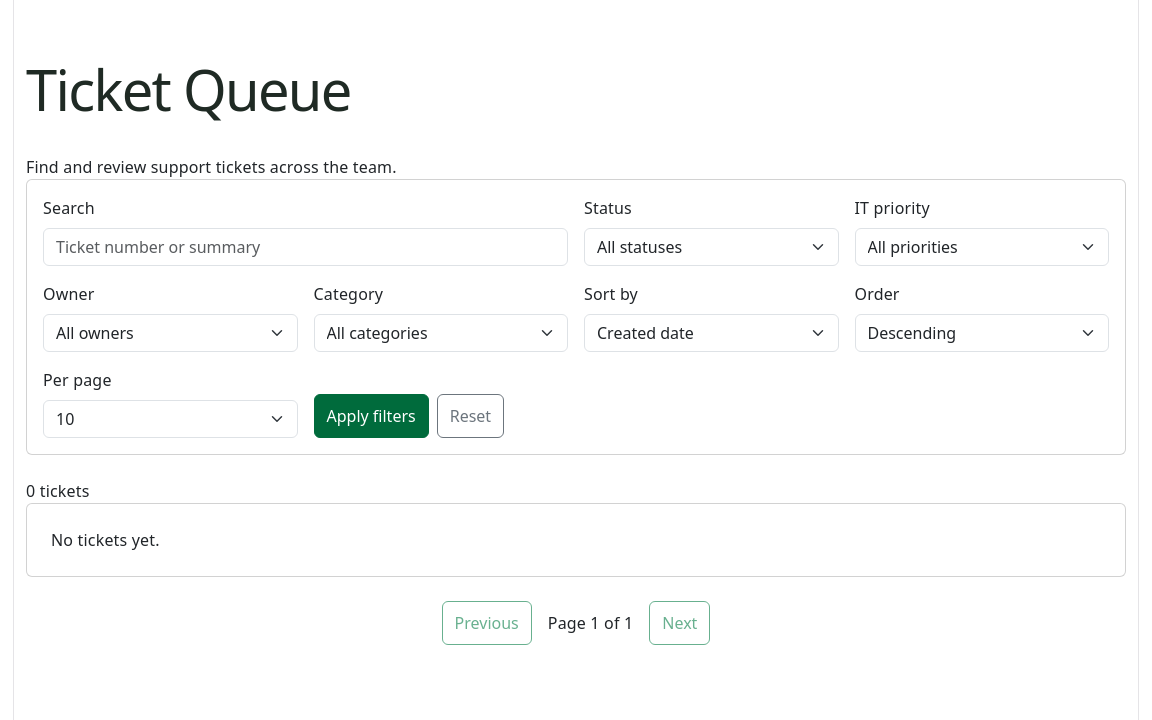
distinguishes empty queue from no matching filters and resets filters
Expected: the text "No tickets yet." is shown, 26,503 -> 1126,577
In the field labelled "Search": (306, 247) 43,228 -> 568,266, type "printer"
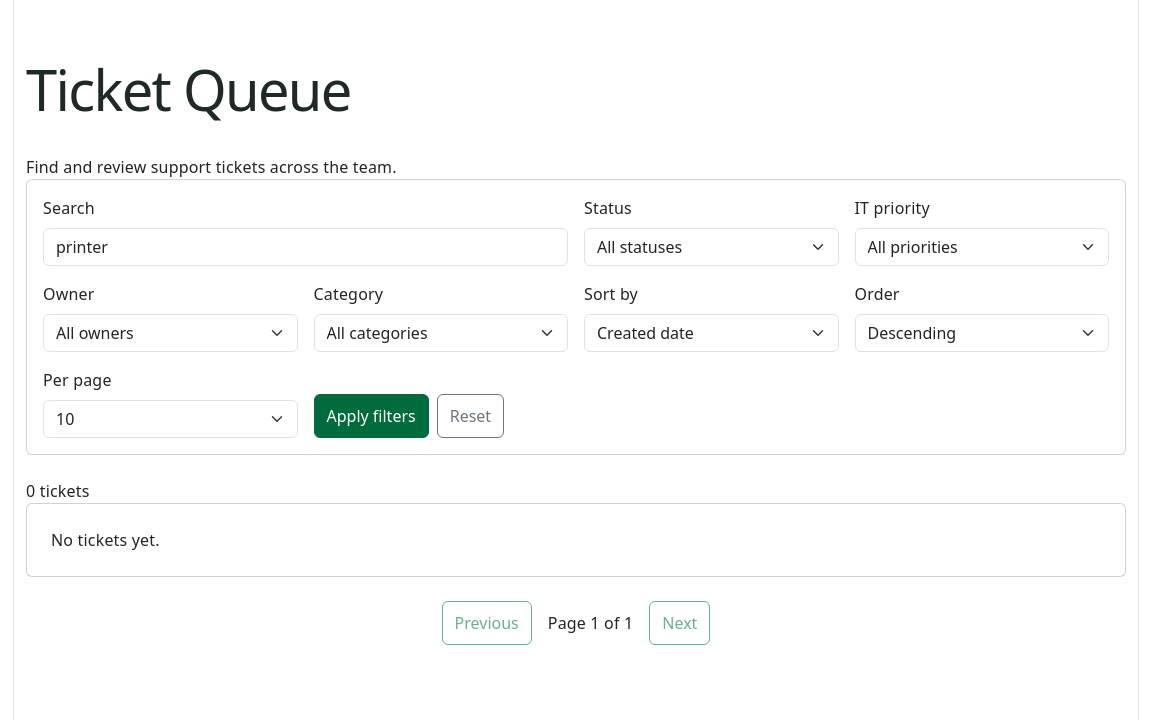
Select "HIGH" in the dropdown labelled "IT priority": (982, 247) 854,228 -> 1109,266
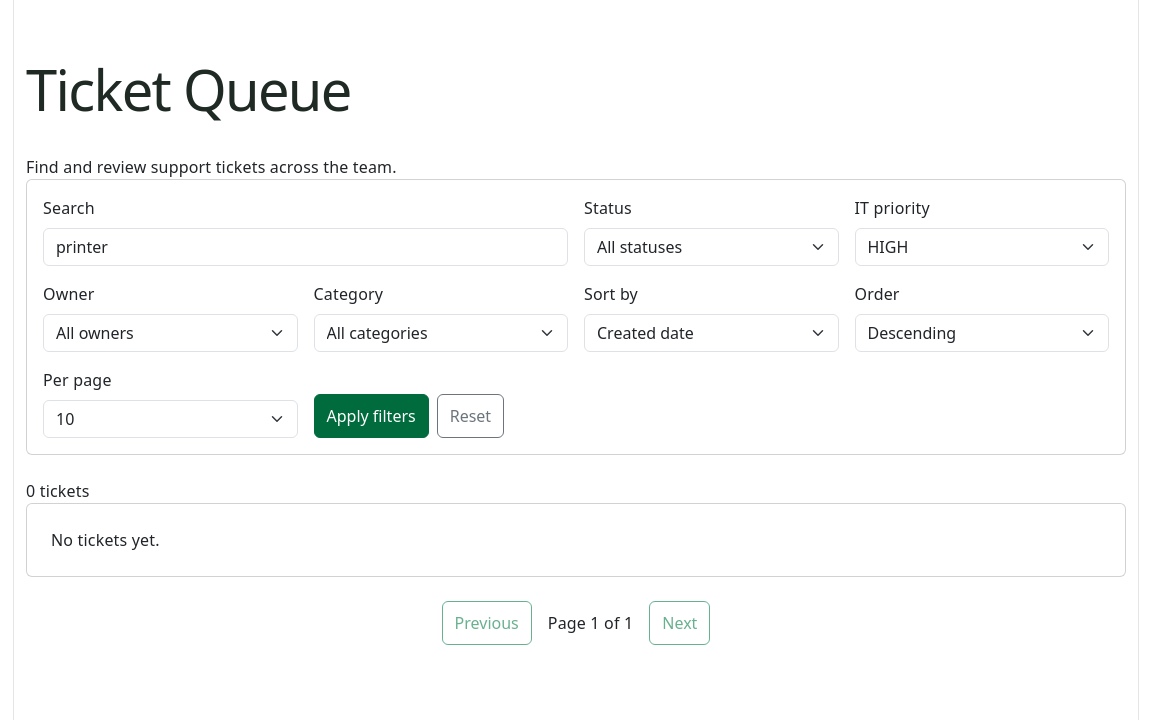
Select "Assigned to me" in the dropdown labelled "Owner": (170, 333) 43,314 -> 298,352
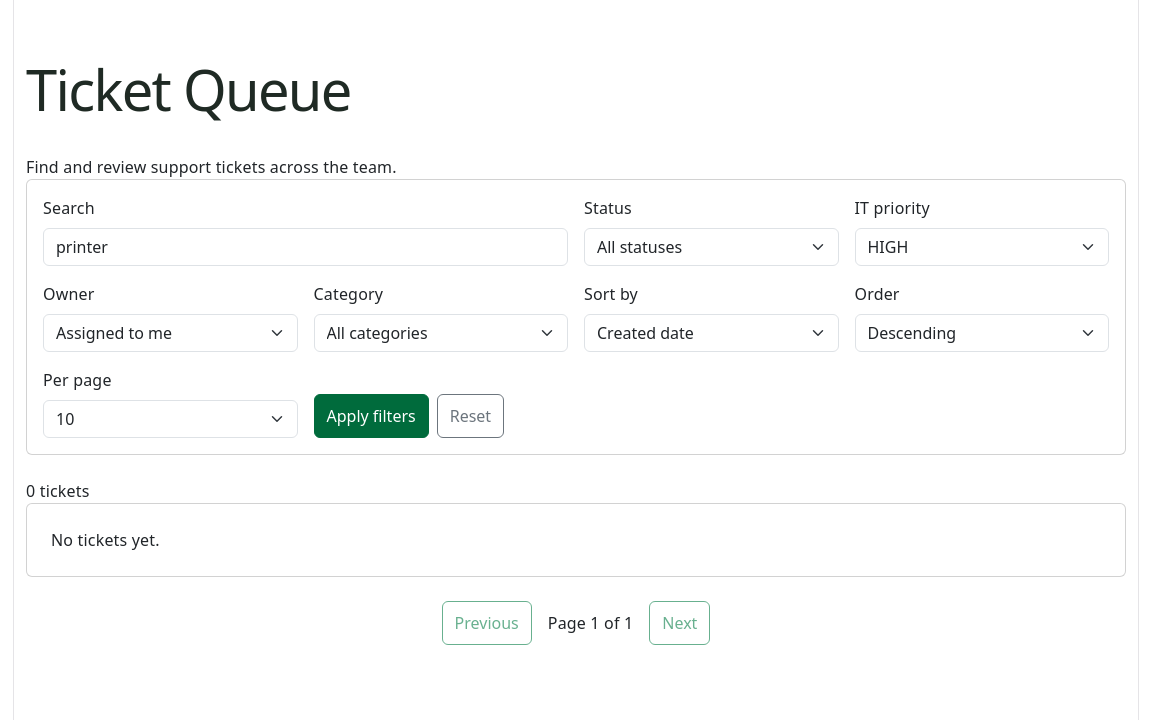
Click the button "Apply filters": click(371, 416) 314,394 -> 429,438
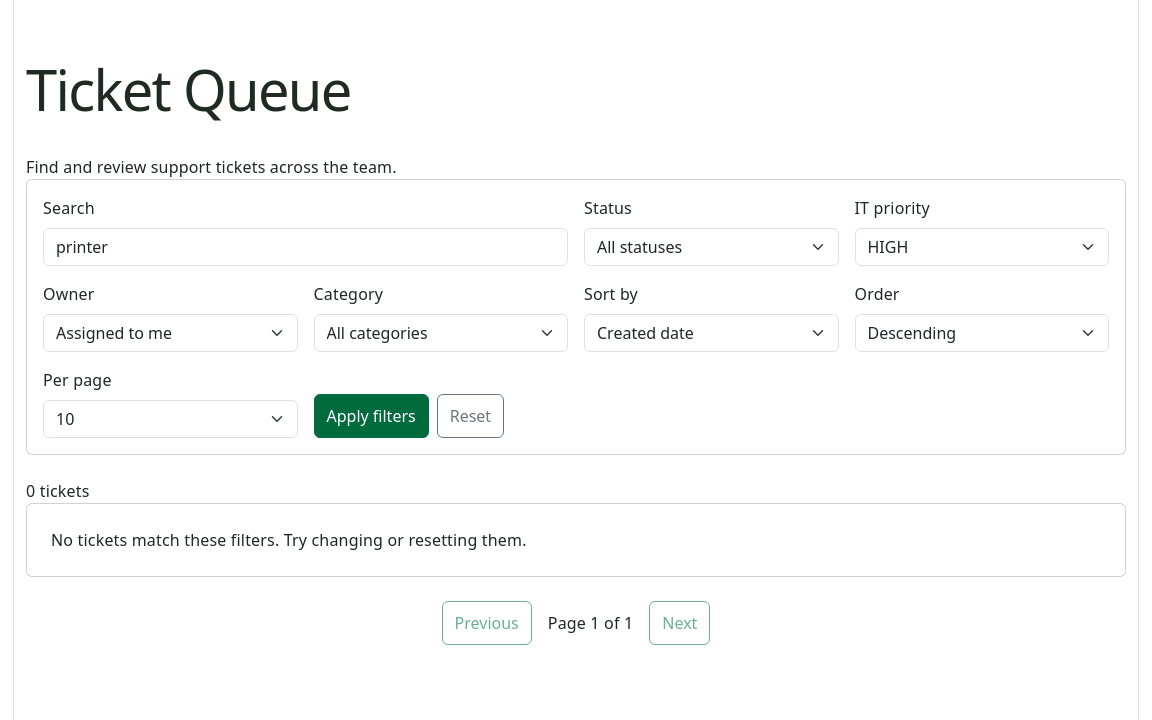
Expected: the text "No tickets match" is shown, 51,529 -> 527,551
Click the button "Reset": click(470, 416) 437,394 -> 504,438
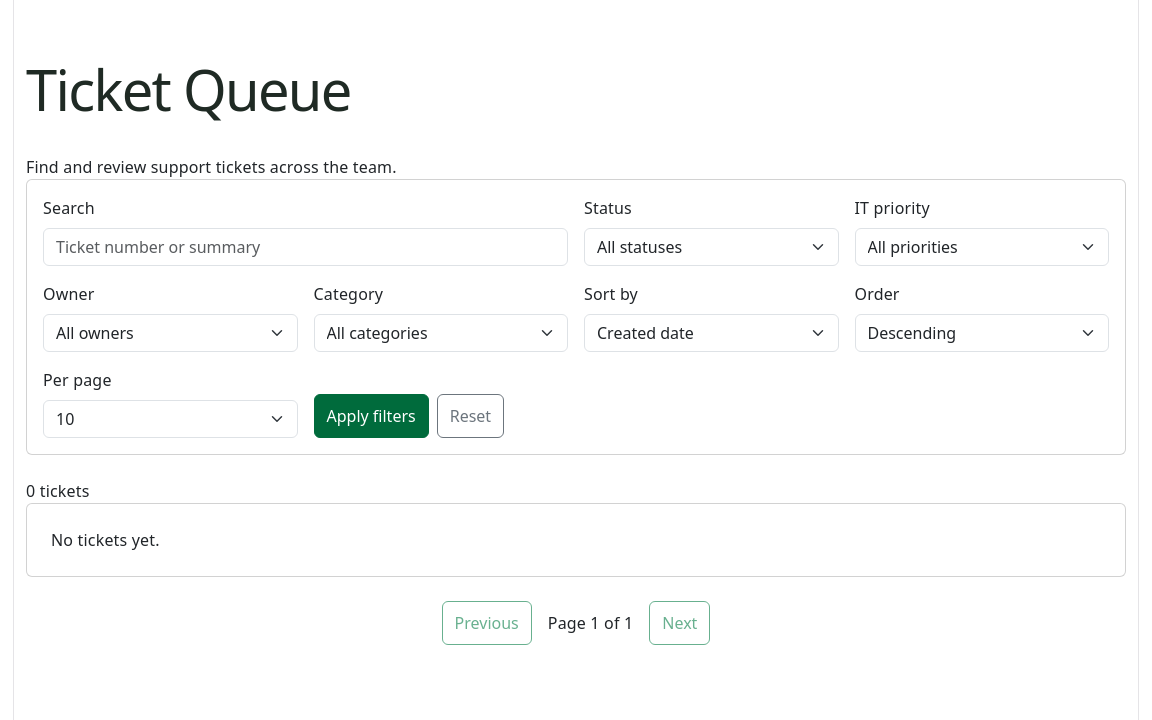
Expected: the text "No tickets yet." is shown, 26,503 -> 1126,577
